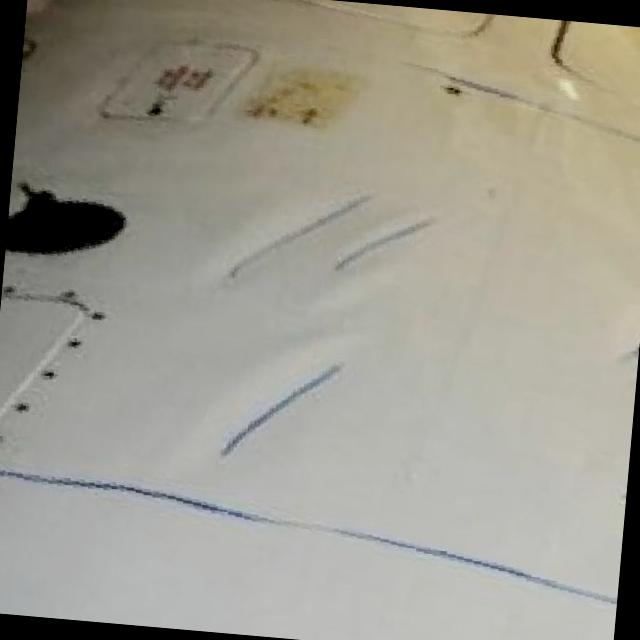dent: (203, 178, 445, 316), (217, 344, 354, 461)
